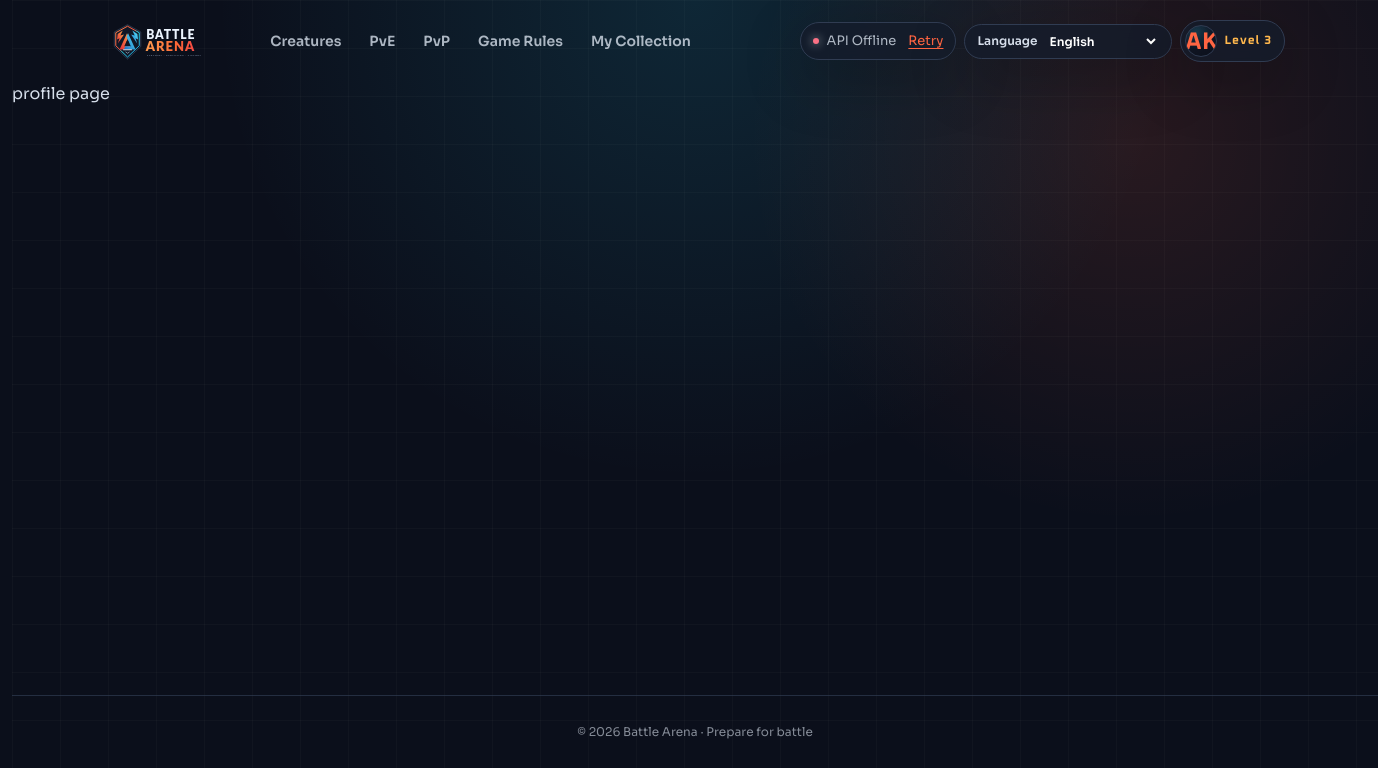
Test: AppShell navigation › logs out from the dropdown and returns to login
This screenshot has width=1378, height=768.
Click the button with aria-label "Account menu" at point(1232, 41), box x1=1180 y1=20 x2=1285 y2=62
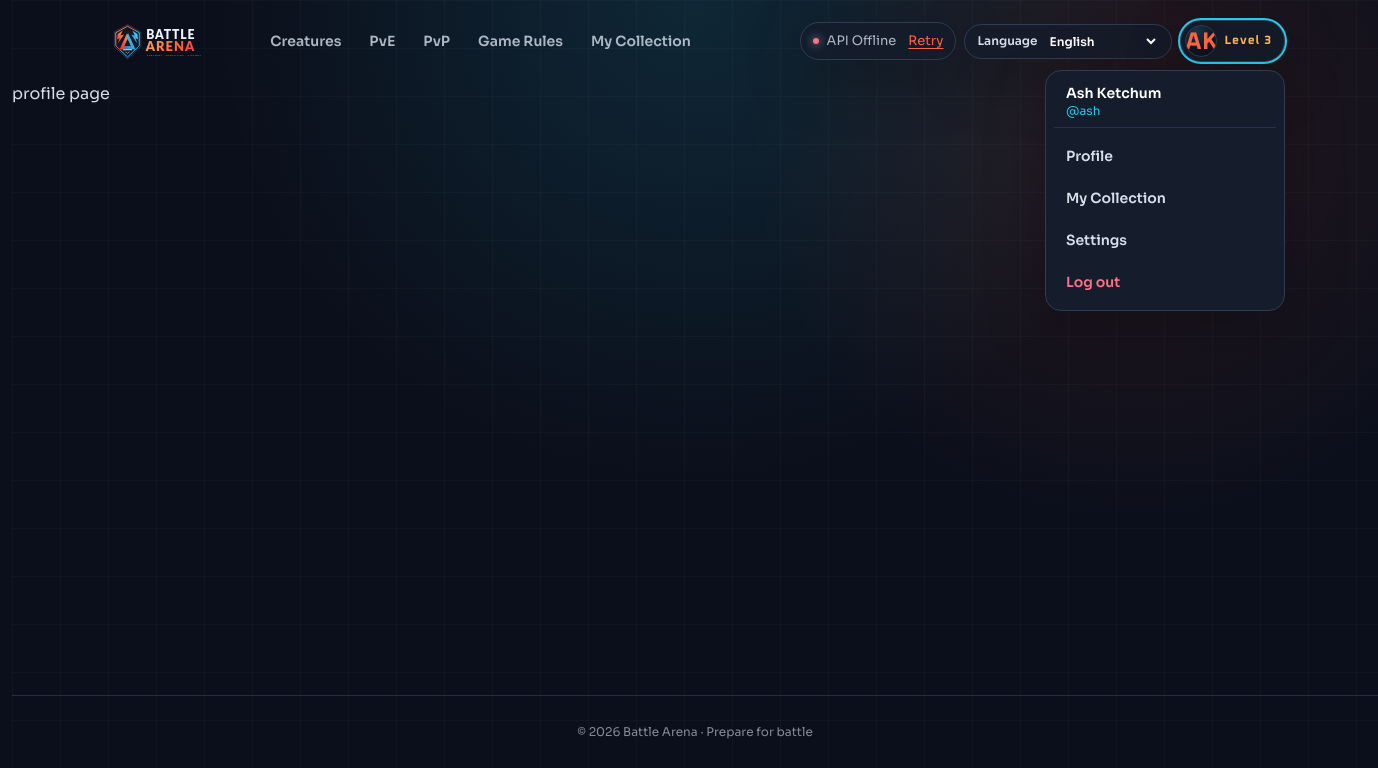
Click the button "Log out" at point(1165, 282), box x1=1054 y1=262 x2=1276 y2=302
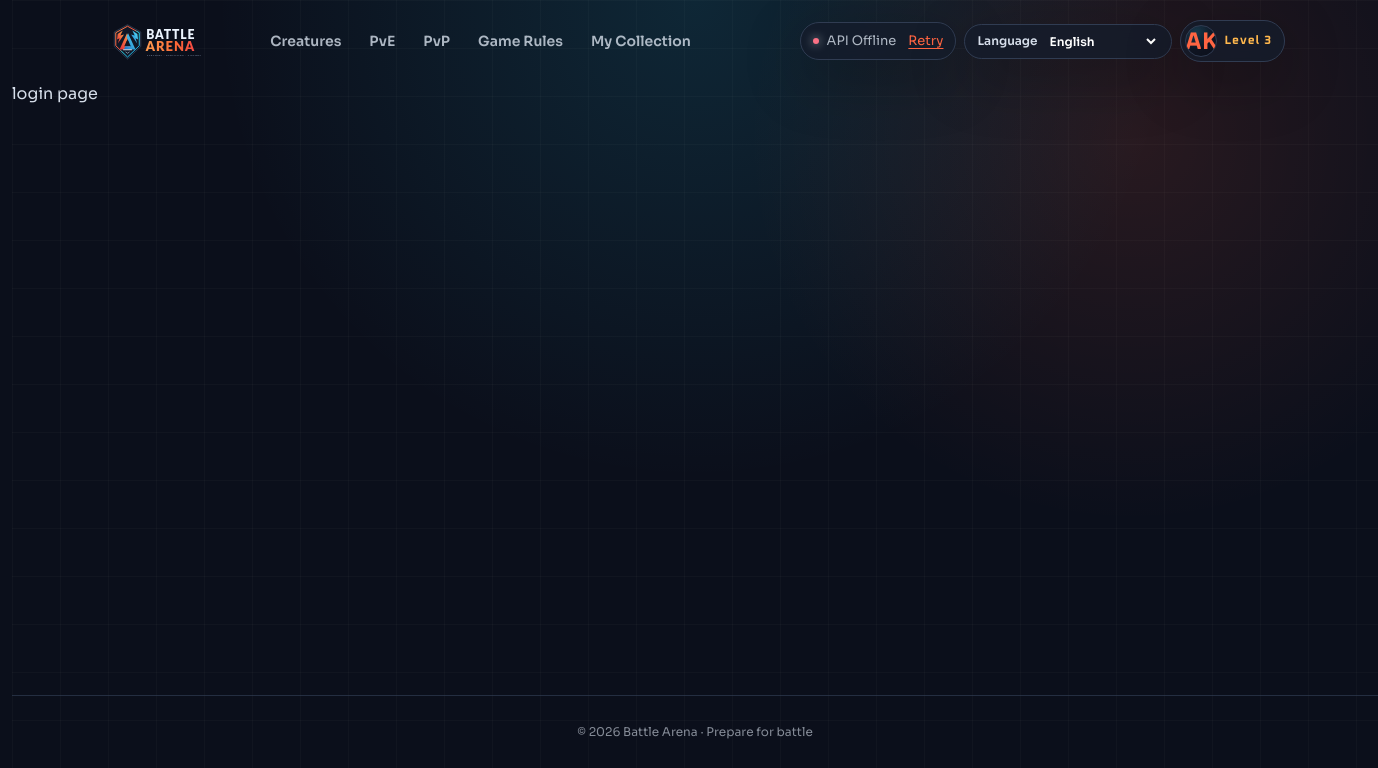
Expected: the text "login page" is shown, x1=12 y1=83 x2=98 y2=104
